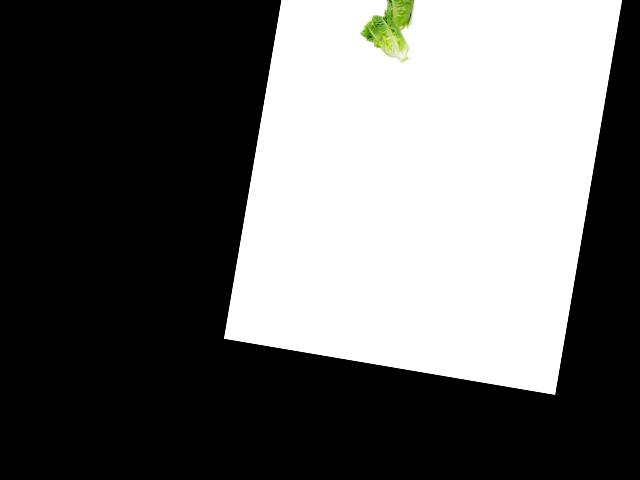lettuce: (358, 7, 419, 64)
